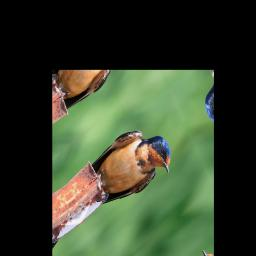Swallow: (80, 108, 178, 225)
